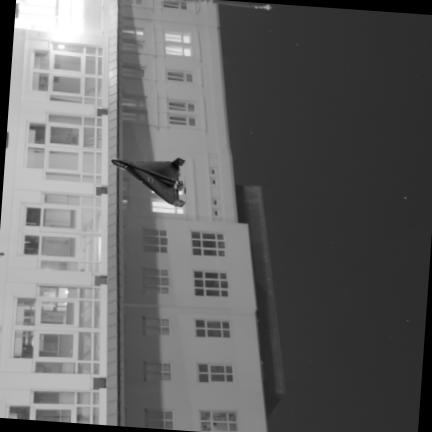Shahed: (111, 158, 184, 206)
